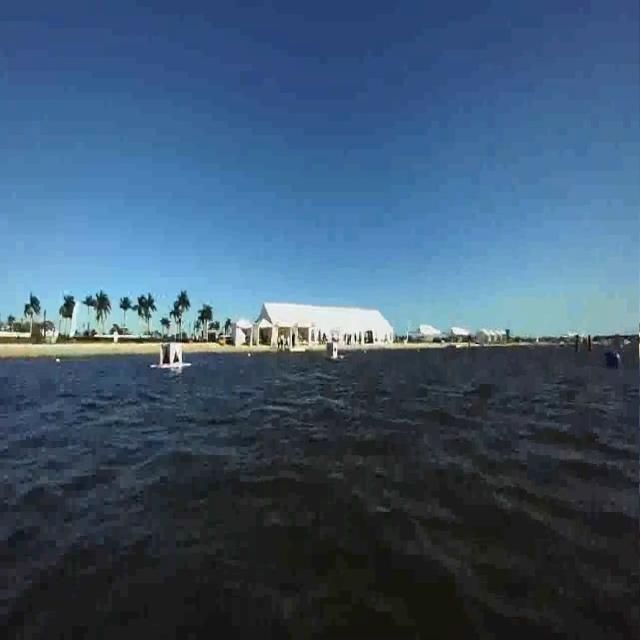blue-buoy: (605, 351, 623, 370)
